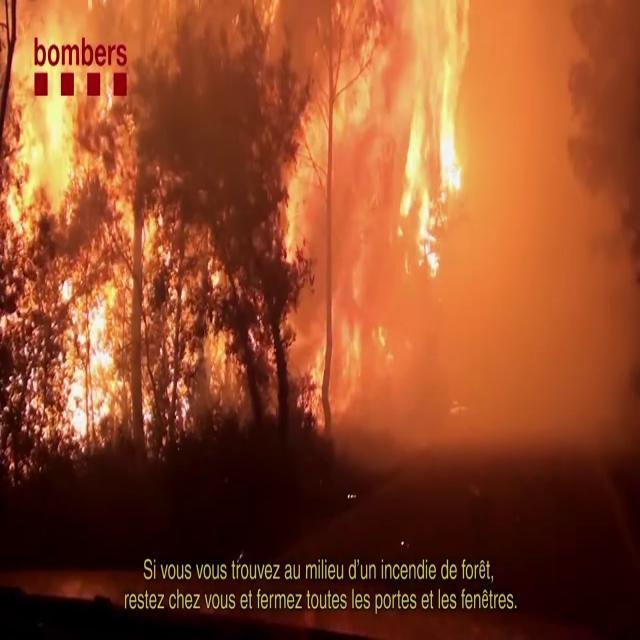Fire: (1, 24, 157, 438), (298, 1, 484, 294)
Smoke: (290, 0, 640, 484)
